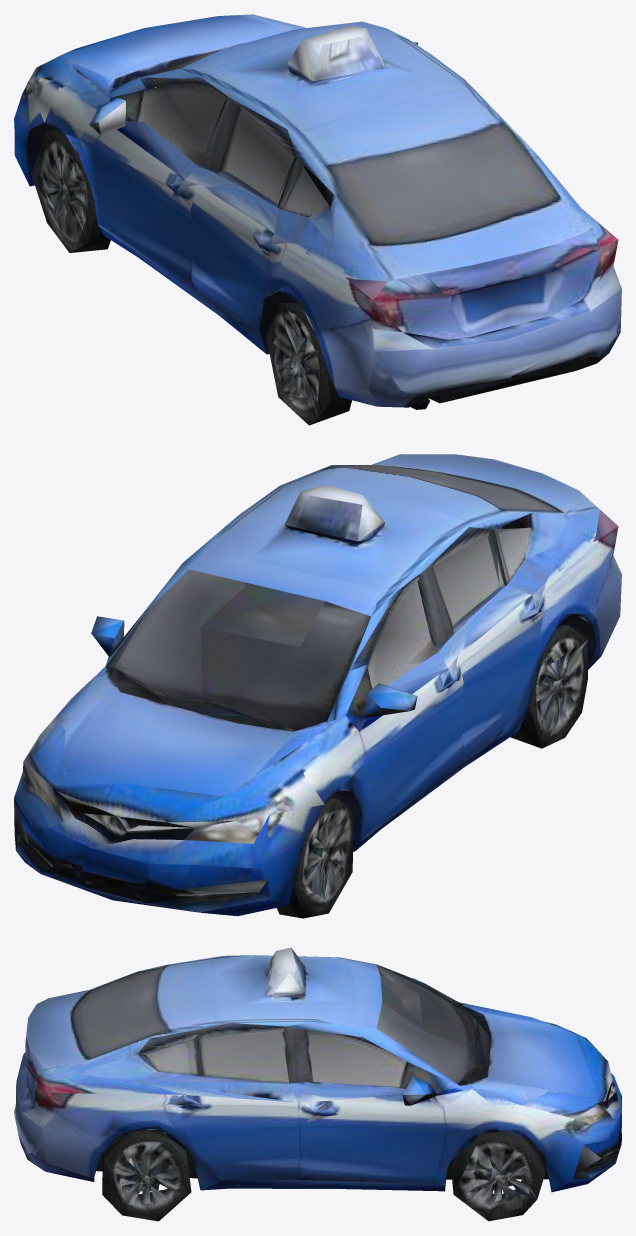
File: taxi-lod1.glb
The picture shows the model from 3 angles, top to bottom: view 1: azimuth 30°, elevation 25°; view 2: azimuth 150°, elevation 25°; view 3: azimuth 270°, elevation 25°; orthographic projection. The views are drawn at different scales.
Visible parts, largest first — view 1: tripo_node_e37d9cc8; view 2: tripo_node_e37d9cc8; view 3: tripo_node_e37d9cc8.
Boxes of the visible parts, x1,y1,x2,y2 form: tripo_node_e37d9cc8: (14,14,621,425); tripo_node_e37d9cc8: (14,454,621,918); tripo_node_e37d9cc8: (14,947,621,1221).
Size of the model in its own units: 2.15 by 1.84 by 4.7.
Materials: 1 (1 with a texture image).
